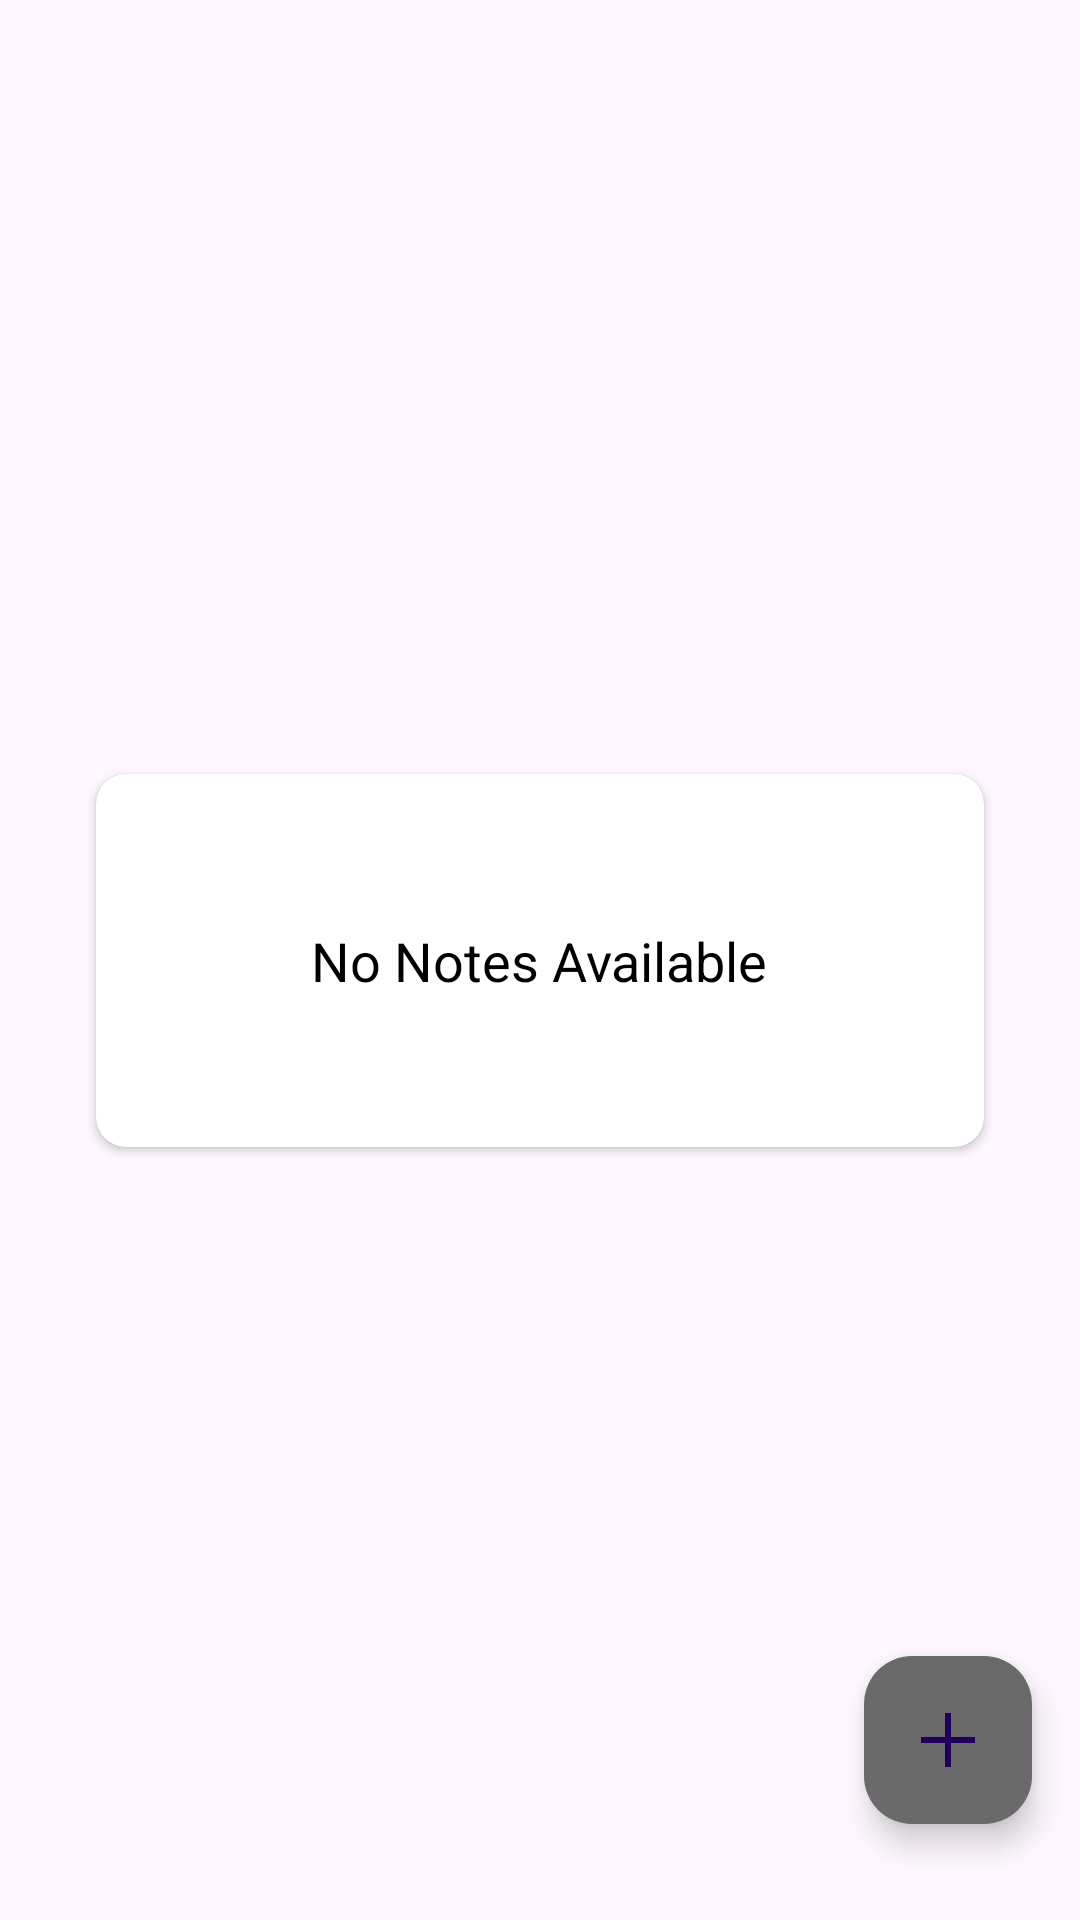

Icon bounding boxes for this 1080px x 1920px phone screenshot, format Rect(x1, y1, x2, y2):
add: Rect(864, 1656, 1032, 1824)
